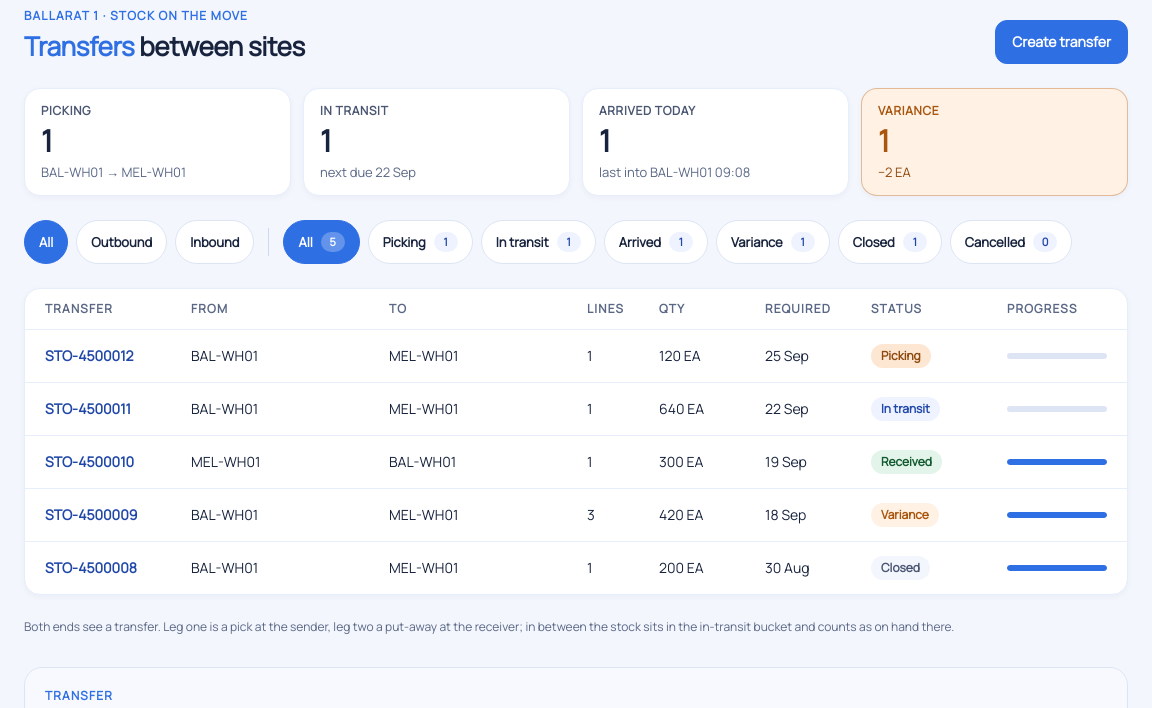
it: Transfers › opens a transfer and shows both legs
Click the text "STO-4500009" at (91,514), box left=45, top=505, right=137, bottom=524
(page scrolled)
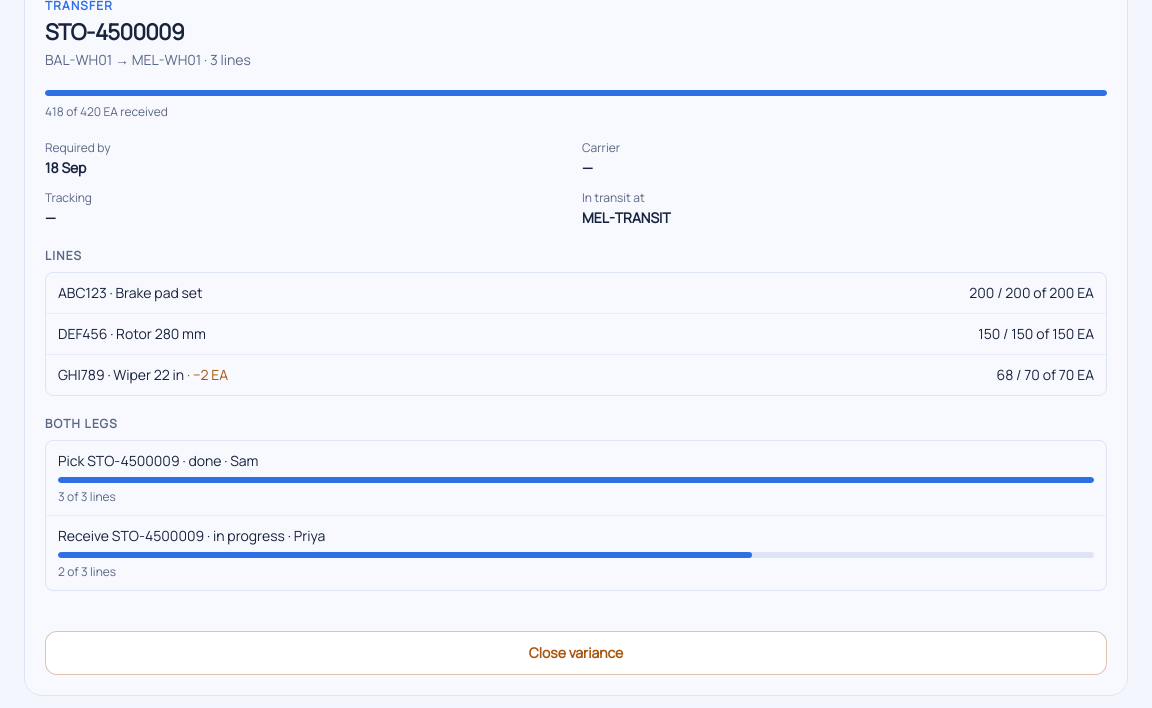
Result: the text "BAL-WH01 → MEL-WH01 · 3 lines" is shown at left=45, top=50, right=251, bottom=69
Result: the text "MEL-TRANSIT" is shown at left=582, top=208, right=671, bottom=227
Result: the text "68 / 70 of 70 EA" is shown at left=996, top=365, right=1094, bottom=385
